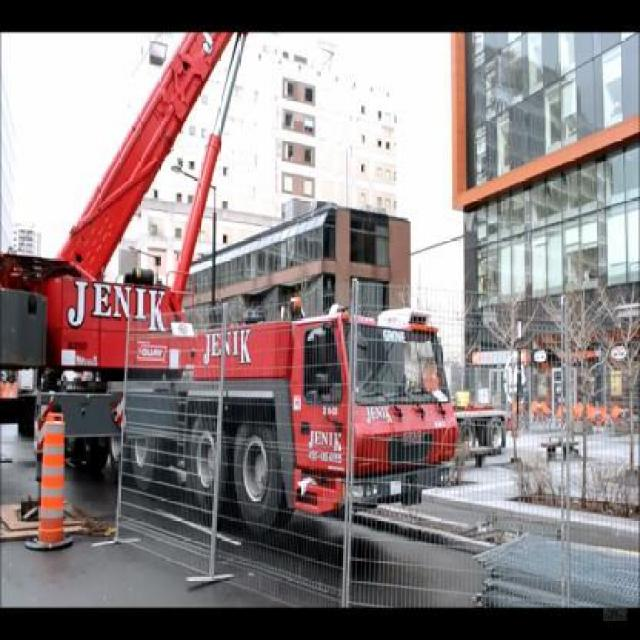Mobile Crane: (1, 35, 467, 517)
